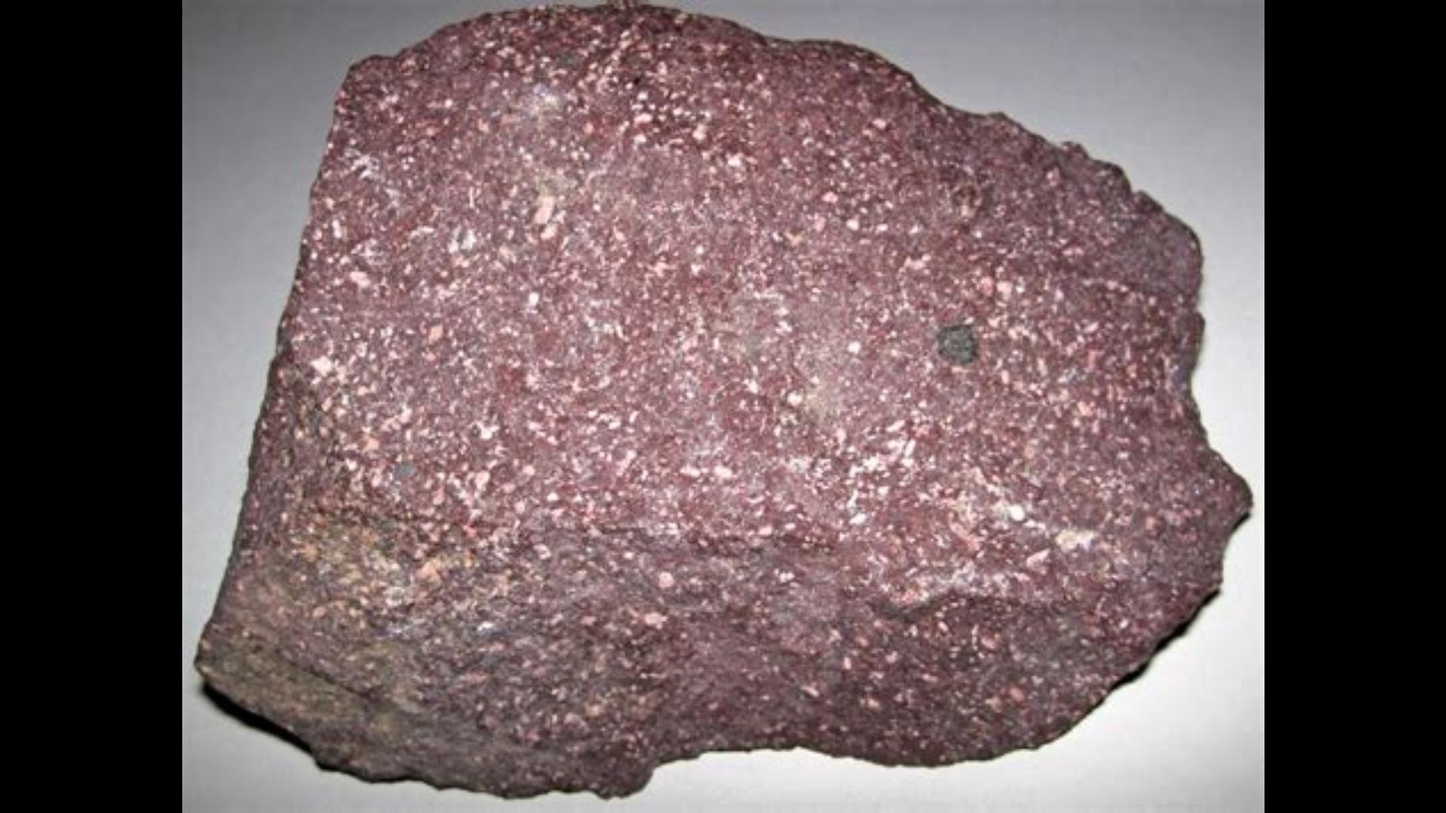rock: (197, 9, 1248, 792)
